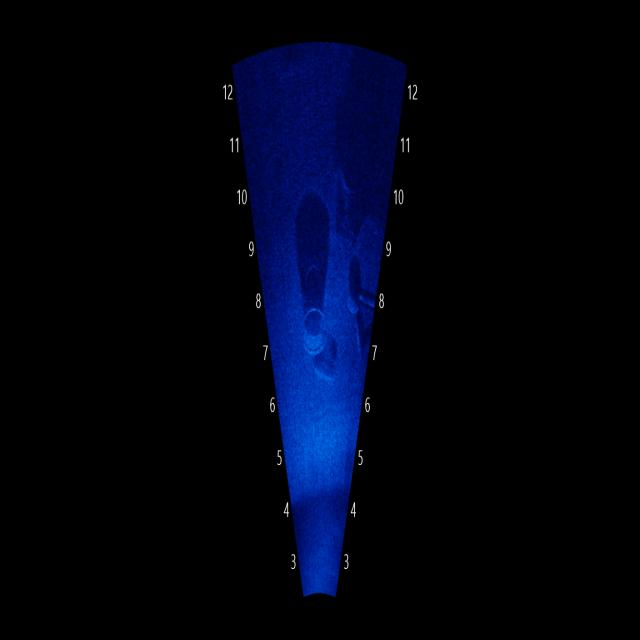circle: (297, 293, 331, 365)
